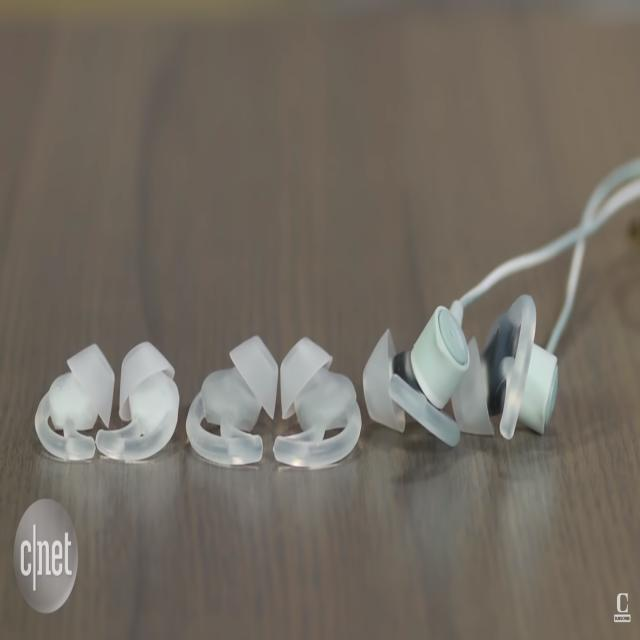Earphone: (32, 157, 640, 463)
